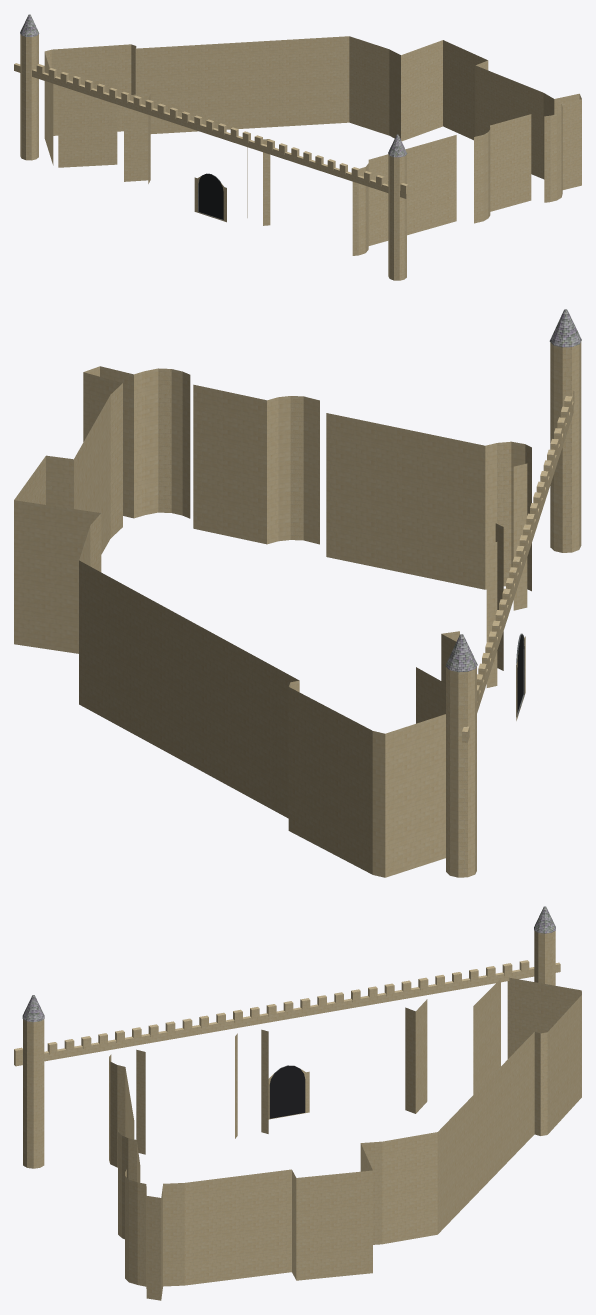
3 renders of one model, top to bottom at view 1: azimuth 30°, elevation 25°; view 2: azimuth 150°, elevation 25°; view 3: azimuth 270°, elevation 25°, orthographic. The views are drawn at different scales.
Visible parts, largest first — view 1: bldg_29067925_landmark; view 2: bldg_29067925_landmark; view 3: bldg_29067925_landmark.
Boxes of the visible parts, box(x1,y1,x2,y2) form: bldg_29067925_landmark: box(14, 14, 581, 280); bldg_29067925_landmark: box(14, 309, 581, 877); bldg_29067925_landmark: box(14, 906, 581, 1300).
Size of the model in its own units: 53.98 by 18.4 by 56.14.
Materials: 4 (3 with a texture image).
